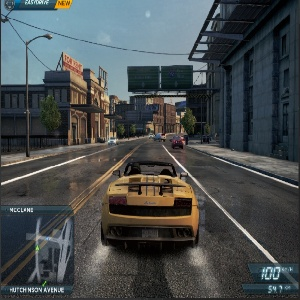ad: (62, 55, 85, 76)
building: (203, 10, 300, 161), (109, 97, 178, 134)
lamp post: (22, 27, 53, 160)
road sign: (127, 66, 192, 91)
tree: (41, 97, 62, 141), (181, 110, 197, 142), (114, 123, 129, 144), (129, 122, 138, 137)
vehicle: (170, 135, 185, 149), (106, 136, 121, 146), (153, 134, 167, 143), (147, 132, 155, 140)
